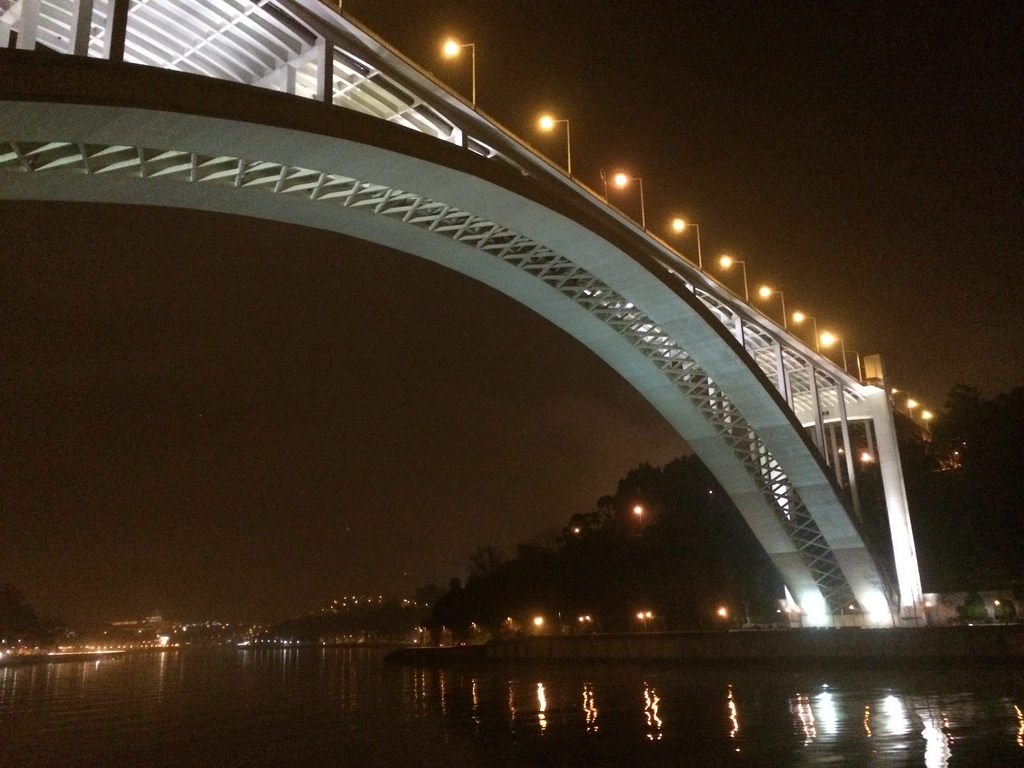arrabida: (0, 0, 936, 627)
